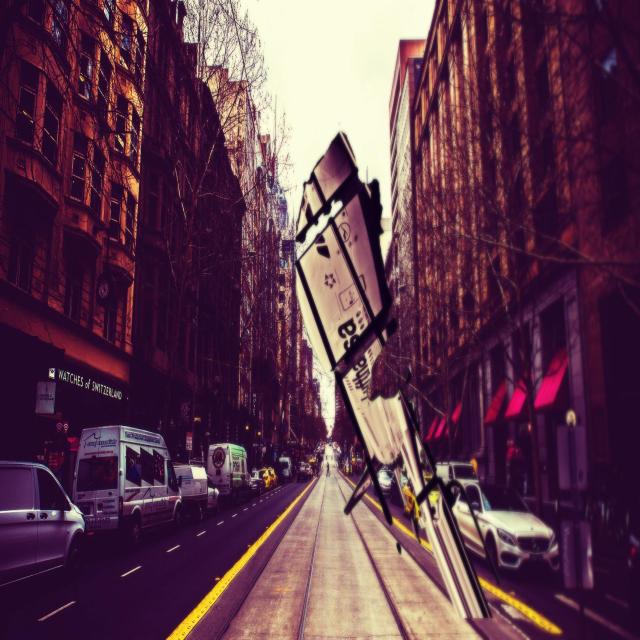airplane: (293, 130, 492, 618)
